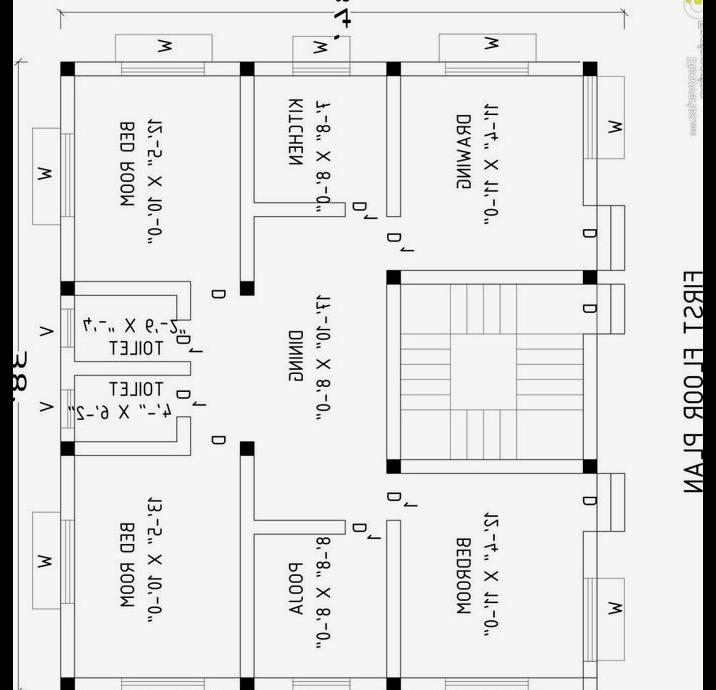Blueprint: (48, 51, 605, 690)
wall: (236, 72, 258, 282), (238, 452, 256, 678), (398, 266, 587, 286), (382, 516, 404, 682), (399, 456, 586, 474), (384, 279, 402, 460), (383, 73, 403, 220), (580, 331, 598, 460), (72, 357, 193, 376), (72, 438, 180, 457), (72, 278, 180, 296), (250, 517, 348, 536), (251, 199, 347, 218), (58, 600, 76, 678), (58, 453, 78, 521), (58, 214, 76, 282), (58, 73, 77, 135), (525, 59, 585, 78), (580, 526, 600, 580), (580, 154, 600, 207), (398, 59, 450, 78), (72, 59, 124, 78), (526, 674, 585, 690), (58, 343, 77, 392), (346, 57, 390, 78), (252, 57, 296, 77), (174, 278, 193, 322), (203, 58, 244, 78), (174, 414, 193, 457), (72, 674, 123, 690), (397, 674, 447, 690), (251, 674, 295, 690), (202, 674, 241, 690), (348, 675, 388, 690), (581, 657, 599, 690), (58, 425, 76, 444), (58, 294, 76, 311)
